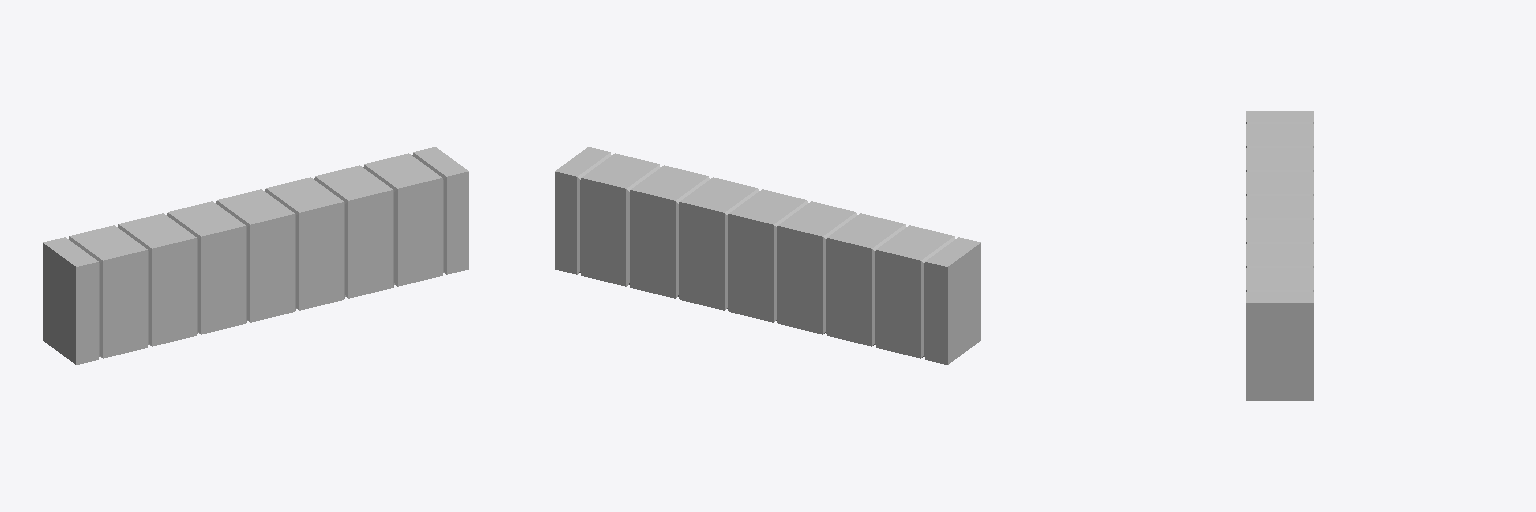
File: Stage.obj
The picture shows the model from 3 angles: view 1: azimuth 30°, elevation 25°; view 2: azimuth 150°, elevation 25°; view 3: azimuth 270°, elevation 25°; orthographic projection.
Parts seen in each view (by area): view 1: Cube.001; view 2: Cube.001; view 3: Cube.001.
Boxes of the visible parts, x1=… form: Cube.001: x1=43, y1=147, x2=468, y2=364; Cube.001: x1=555, y1=147, x2=980, y2=364; Cube.001: x1=1246, y1=111, x2=1313, y2=400.
Size of the model in its own units: 25.14 by 6 by 3.73.